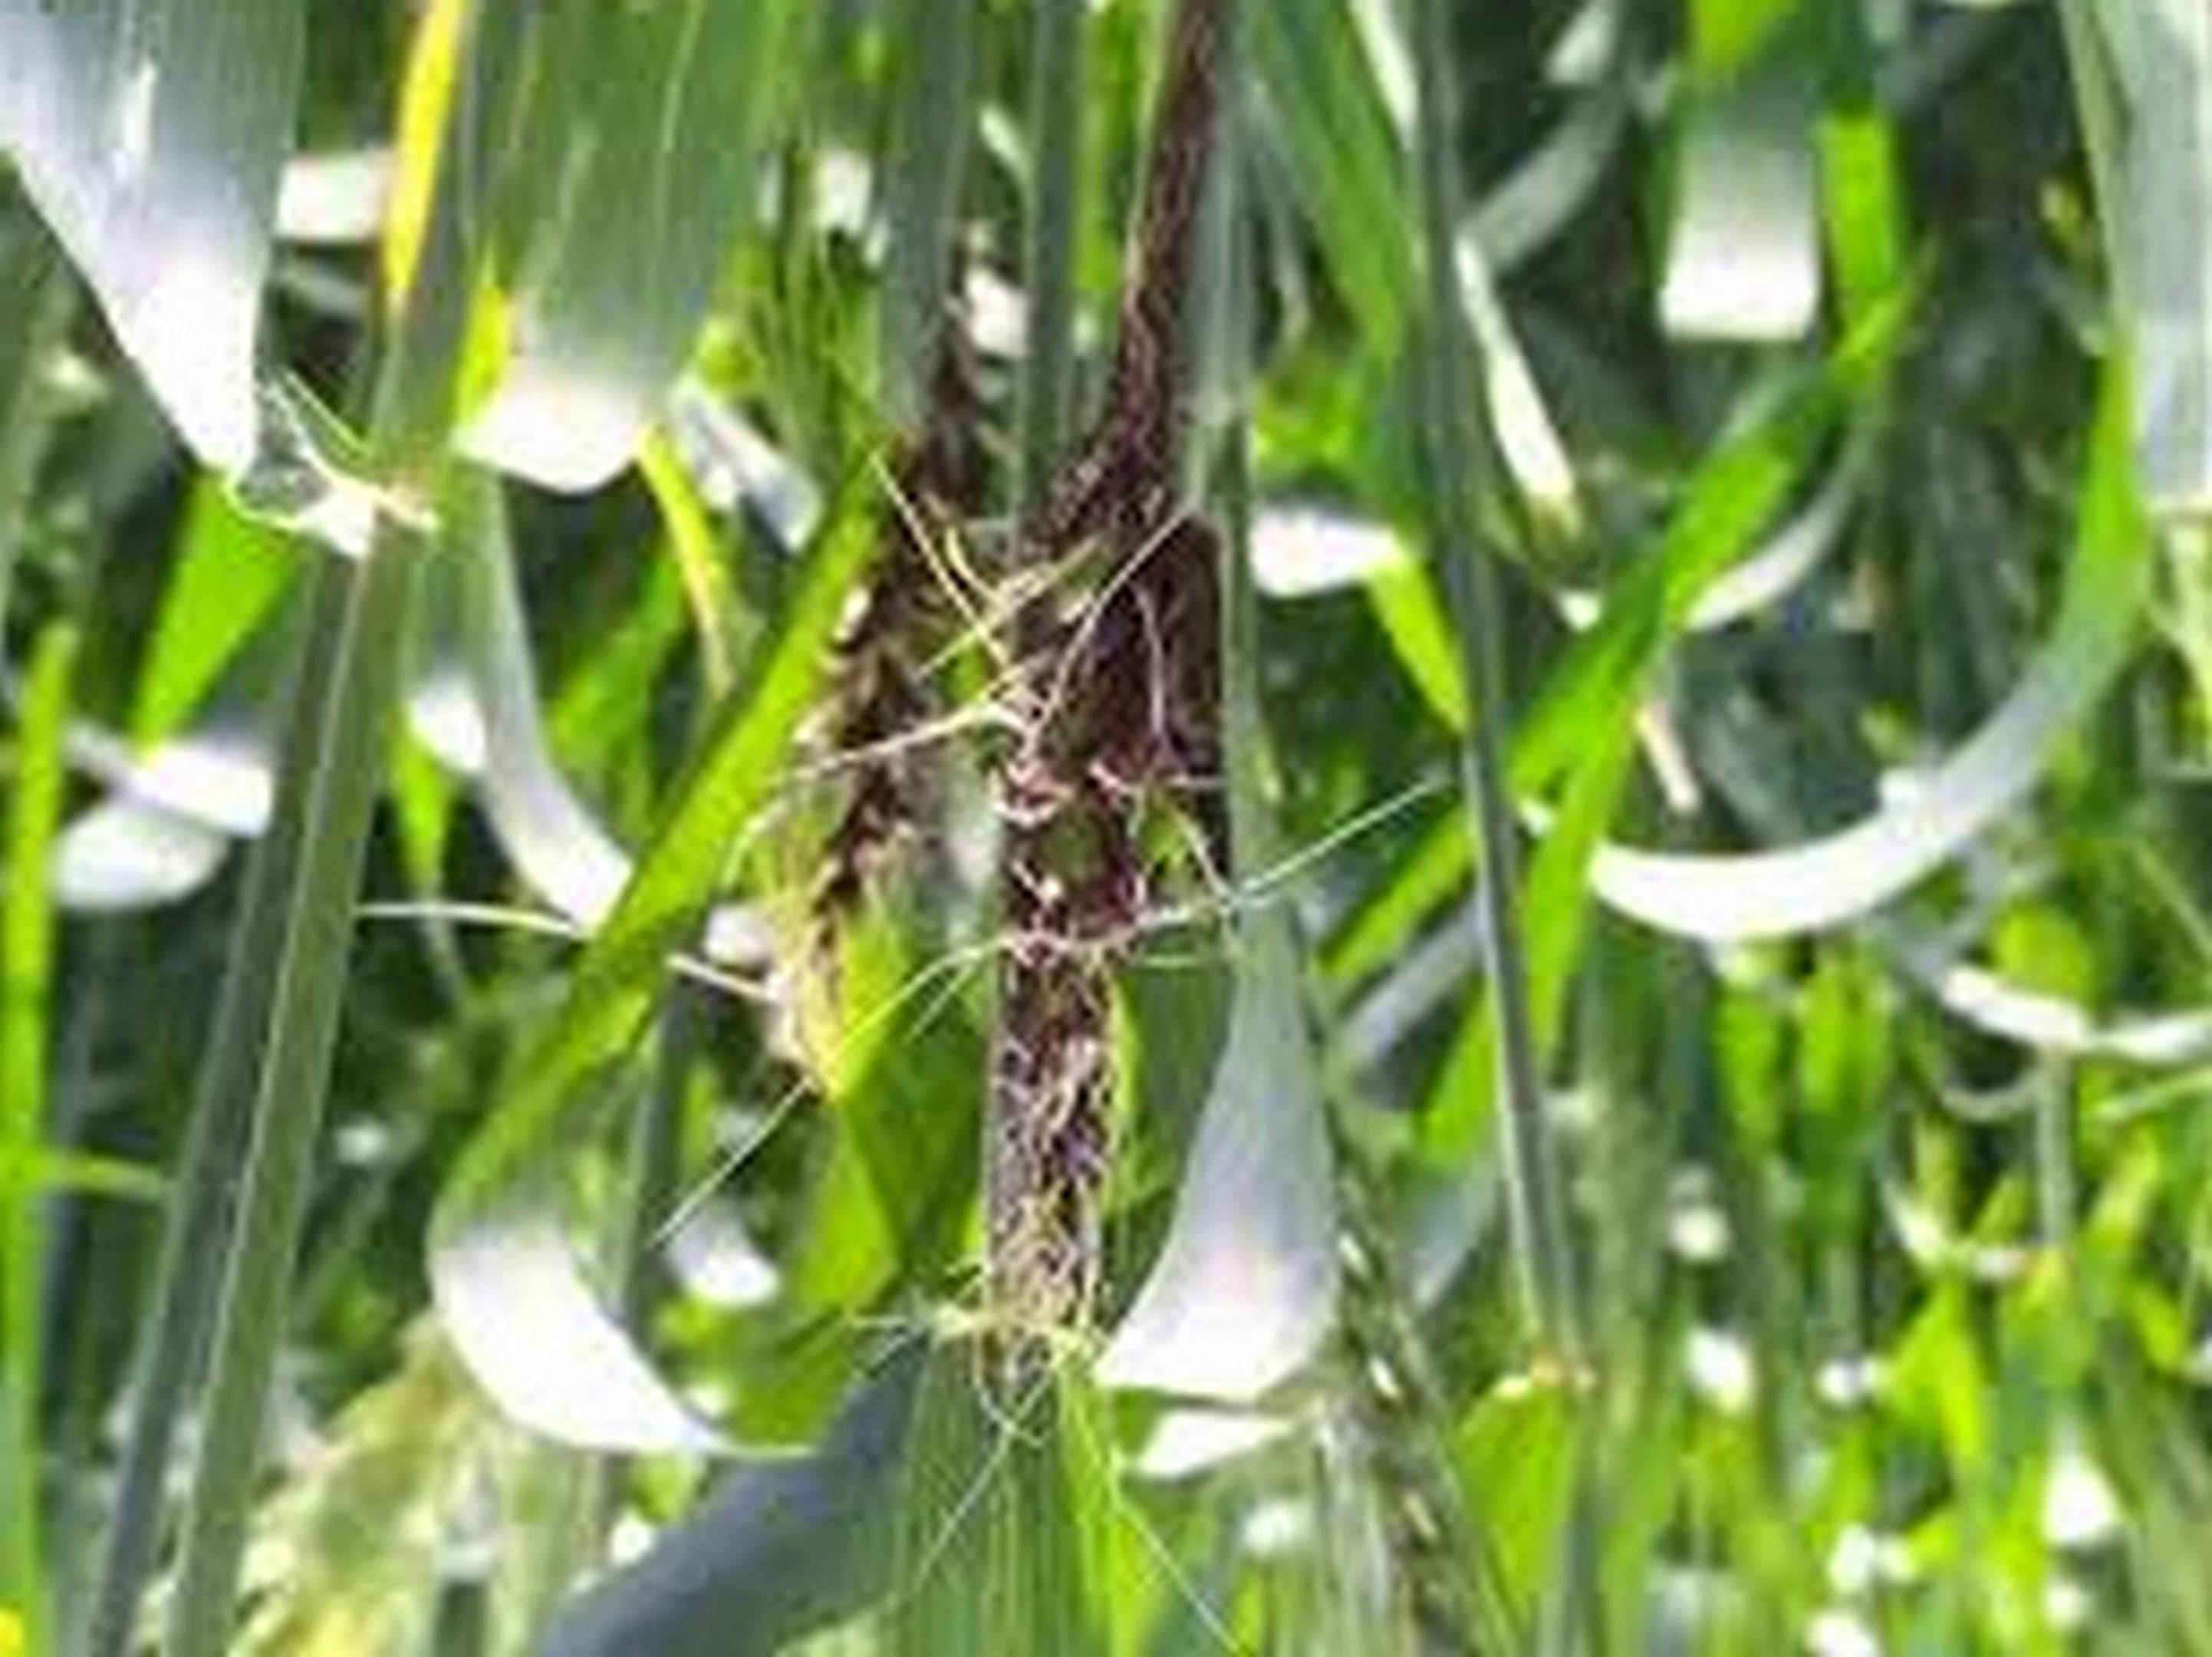Wheat Loose Smut: (955, 235, 1243, 1358)
